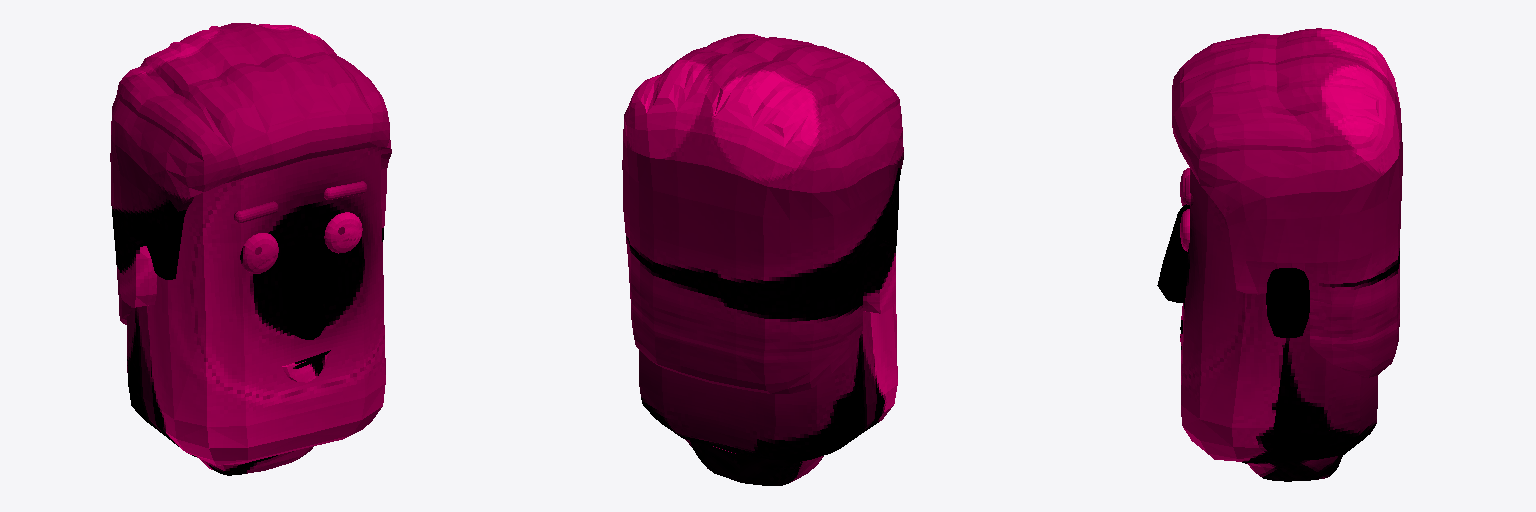
3 renders of one model, left to right at view 1: azimuth 30°, elevation 25°; view 2: azimuth 150°, elevation 25°; view 3: azimuth 270°, elevation 25°, orthographic.
Parts seen in each view (by area): view 1: head.obj; view 2: head.obj; view 3: head.obj.
Part boxes in pixels (left/top/right/bottom): head.obj: left=110, top=23, right=391, bottom=475; head.obj: left=622, top=34, right=903, bottom=485; head.obj: left=1157, top=28, right=1402, bottom=481.
Size of the model in its own units: 0.2548 by 0.4071 by 0.2183.
1 materials, 1 textured.